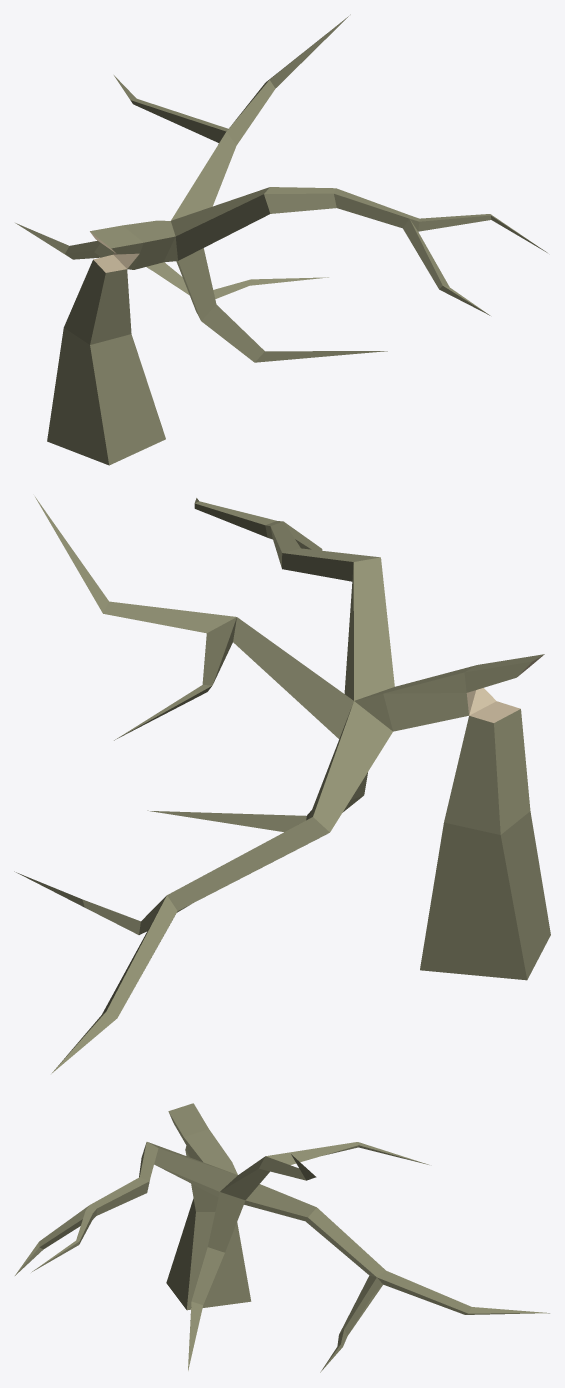
Rendered from Dead_Tree_crk_m_01.fbx.
The picture shows the model from 3 angles, top to bottom: view 1: azimuth 30°, elevation 25°; view 2: azimuth 150°, elevation 25°; view 3: azimuth 270°, elevation 25°; orthographic projection. The views are drawn at different scales.
Visible parts, largest first — view 1: Dead_Tree_crk_m_01; view 2: Dead_Tree_crk_m_01; view 3: Dead_Tree_crk_m_01.
Boxes of the visible parts, box(x1,y1,x2,y2) form: Dead_Tree_crk_m_01: box(15, 14, 547, 465); Dead_Tree_crk_m_01: box(14, 497, 550, 1073); Dead_Tree_crk_m_01: box(15, 1103, 549, 1372).
Bounding box in the file's own units: 579 × 462 × 884.
